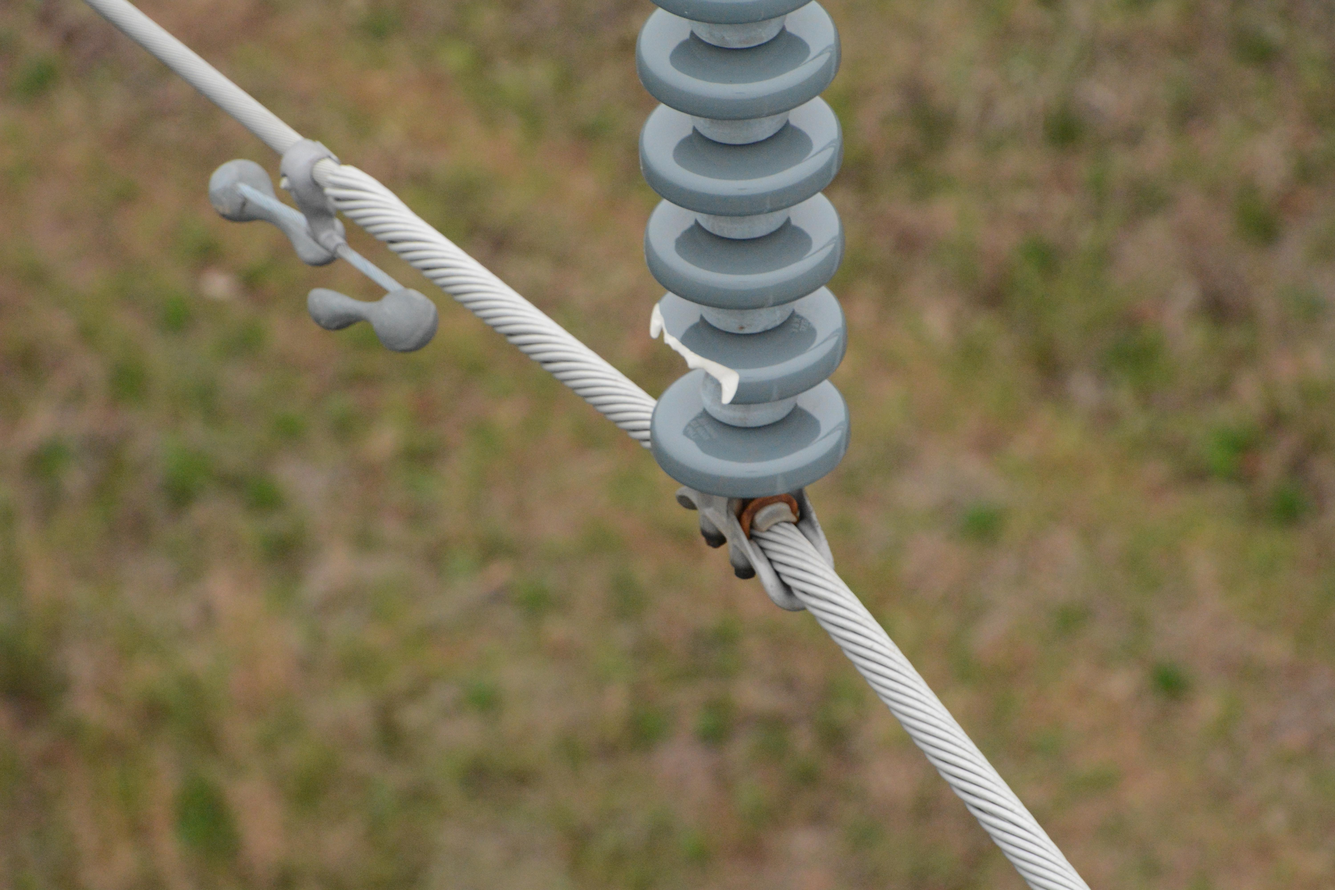damaged: (649, 296, 752, 404)
hammer: (207, 134, 444, 353)
insulator: (634, 0, 856, 497)
